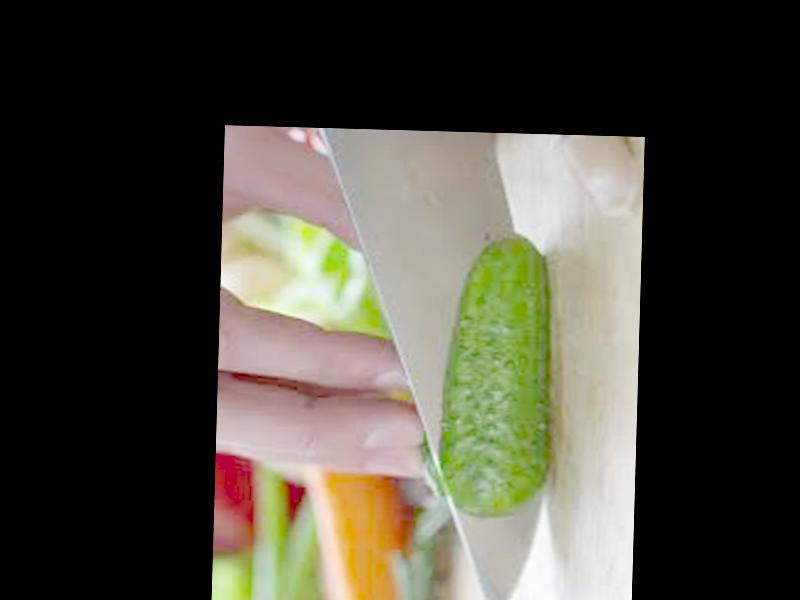Cucumber: (436, 234, 559, 520)
